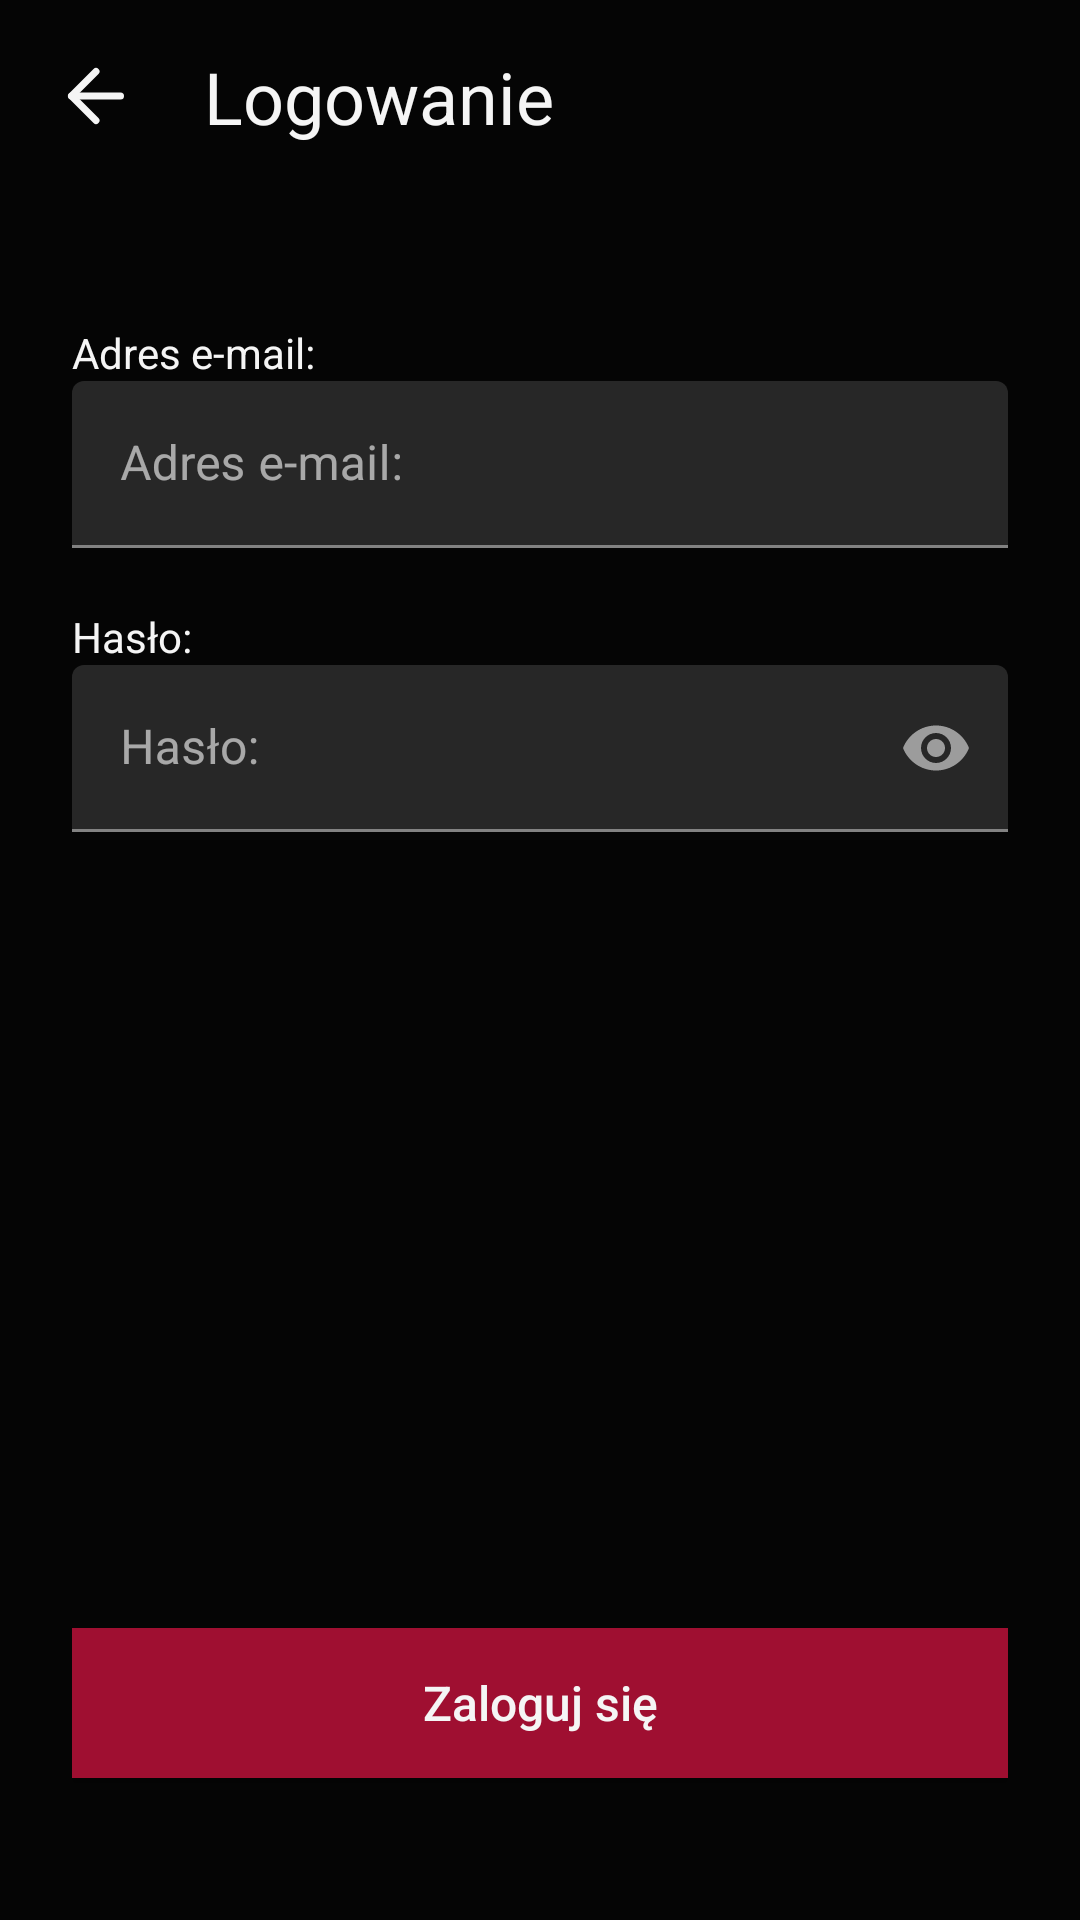

Icon bounding boxes for this 1080×1920 phone screenshot, format (x1, y1, x2, y2):
Go Back: (68, 67, 124, 125)
